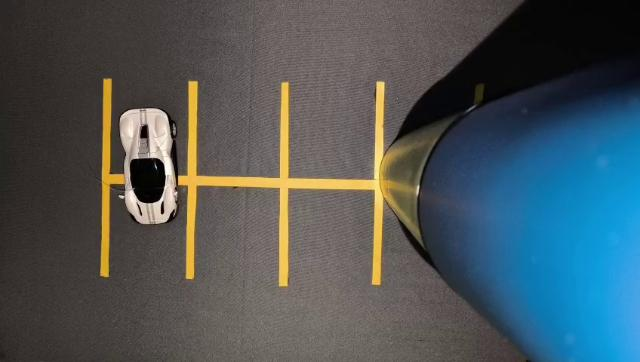toy_car: (106, 97, 211, 235)
